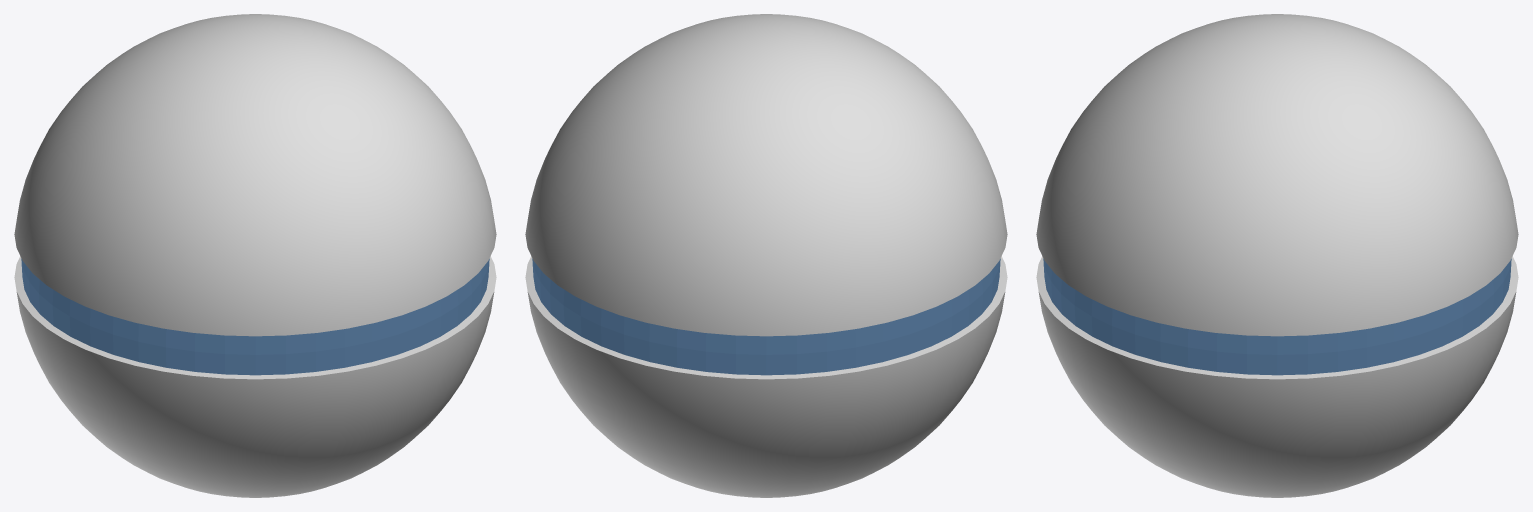
Rendered from Ball.gltf.
3 renders of one model, left to right at view 1: azimuth 30°, elevation 25°; view 2: azimuth 150°, elevation 25°; view 3: azimuth 270°, elevation 25°, orthographic.
Visible parts, largest first — view 1: Sphere; view 2: Sphere; view 3: Sphere.
Boxes of the visible parts, x1,y1,x2,y2 form: Sphere: [14, 14, 496, 497]; Sphere: [525, 14, 1007, 497]; Sphere: [1036, 14, 1518, 497].
Size of what is drawn, in the model's own units: 1.99 by 2 by 1.99.
